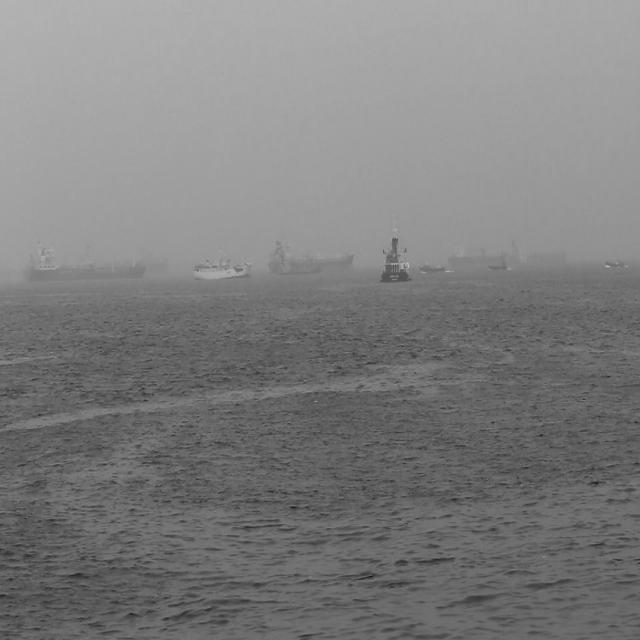ship: (25, 238, 146, 279), (268, 240, 354, 276), (382, 212, 412, 284), (193, 253, 254, 280), (448, 246, 516, 263), (418, 262, 446, 273), (605, 258, 625, 270), (486, 263, 508, 272)
